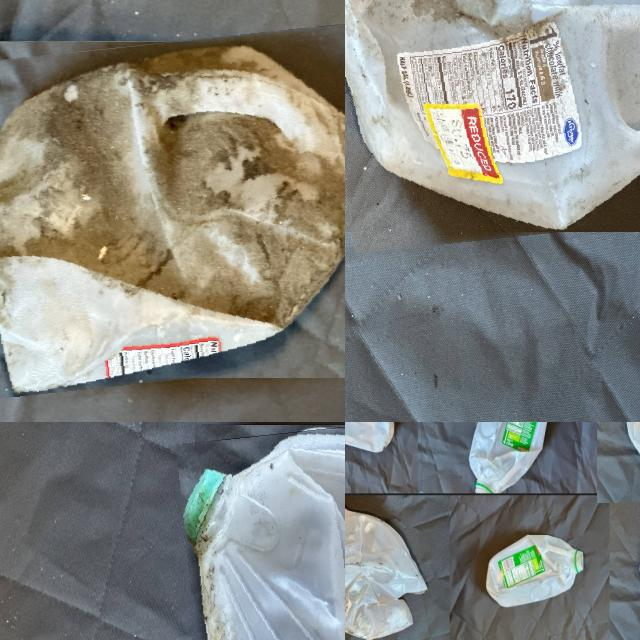milk-jug: (0, 30, 345, 388), (345, 0, 640, 242), (185, 422, 345, 640), (345, 502, 426, 640), (486, 530, 588, 612), (453, 422, 562, 491), (345, 422, 406, 461)
